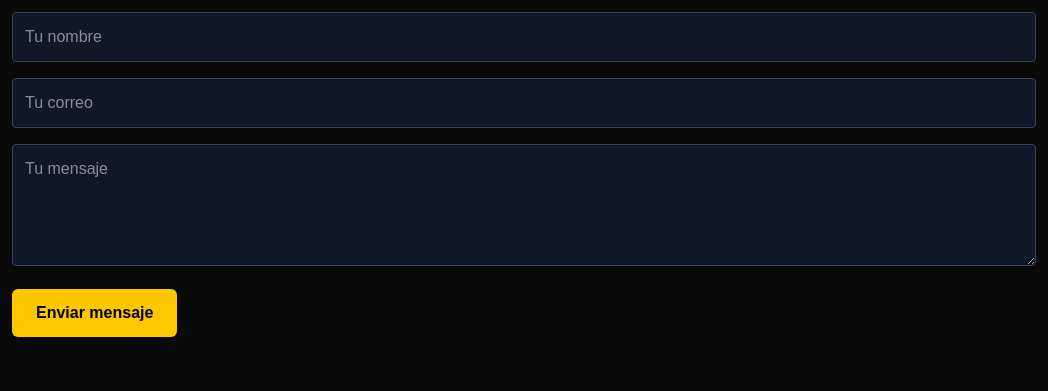
ContactForm › should render form inputs and submit successfully
Note: Fill form
In the field with placeholder "Tu nombre": coordinates (524, 37) [12,12,1036,62], type "Fabio"
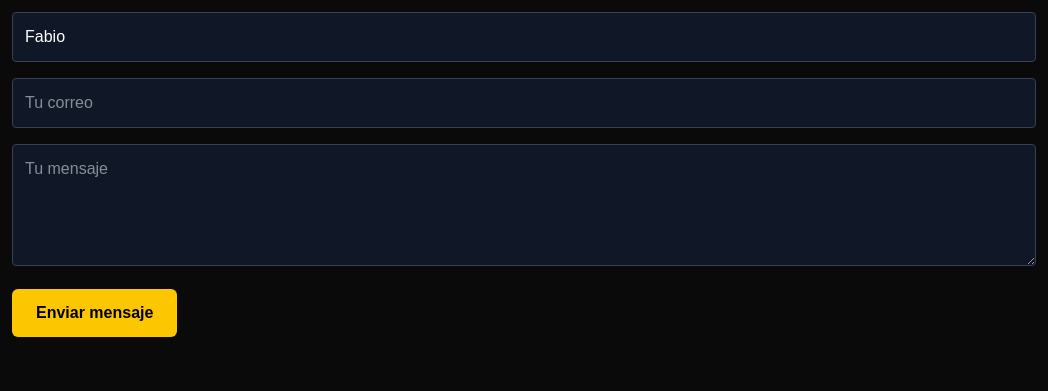
In the field with placeholder "Tu correo": coordinates (524, 103) [12,78,1036,128], type "fabio@example.com"
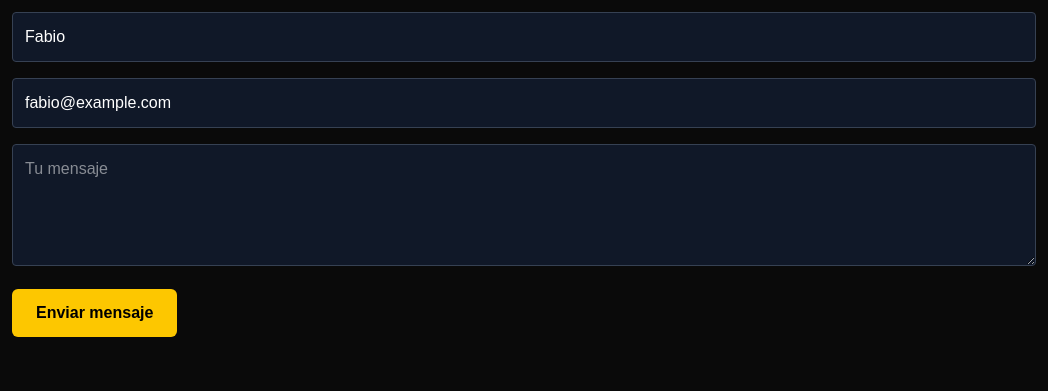
In the text box with placeholder "Tu mensaje": coordinates (524, 205) [12,144,1036,266], type "Hola, este es un mensaje."
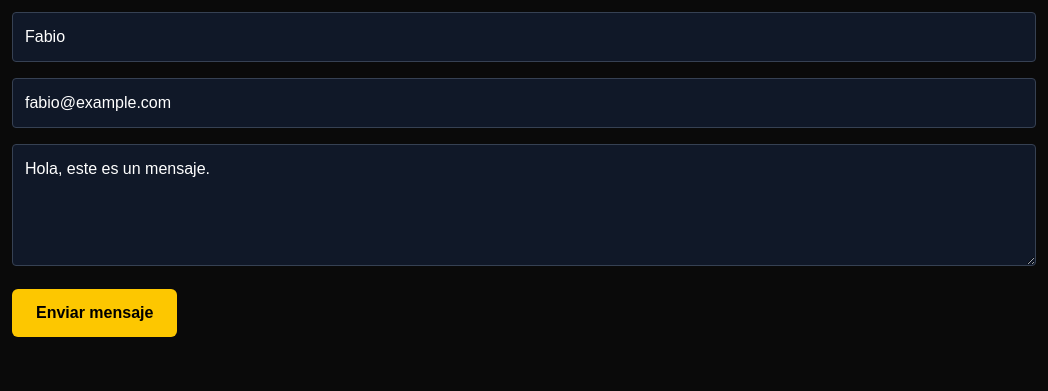
Click the button "Enviar mensaje": coordinates (95, 313) [12,289,177,337]
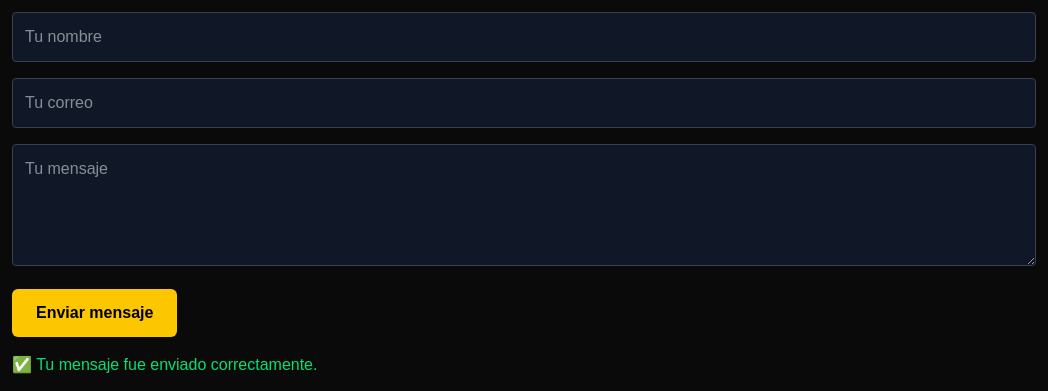
Now the text "✅ Tu mensaje fue enviado correctamente." is shown, box [12,356,318,373]
